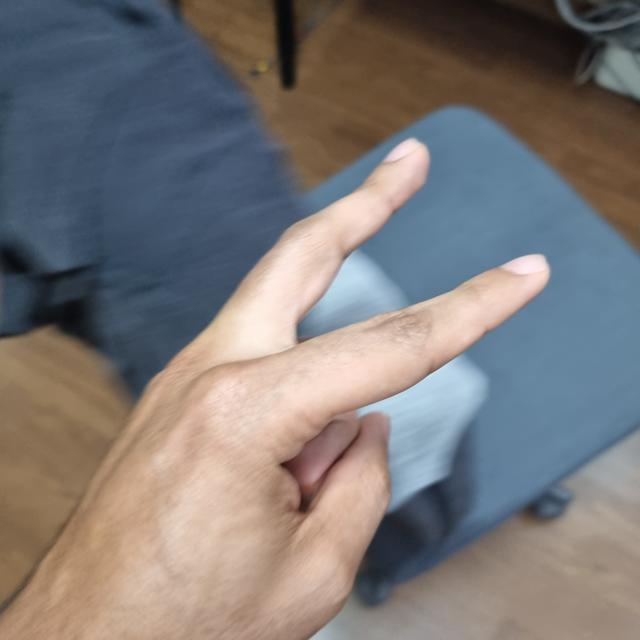Scissors: (6, 143, 538, 640)
